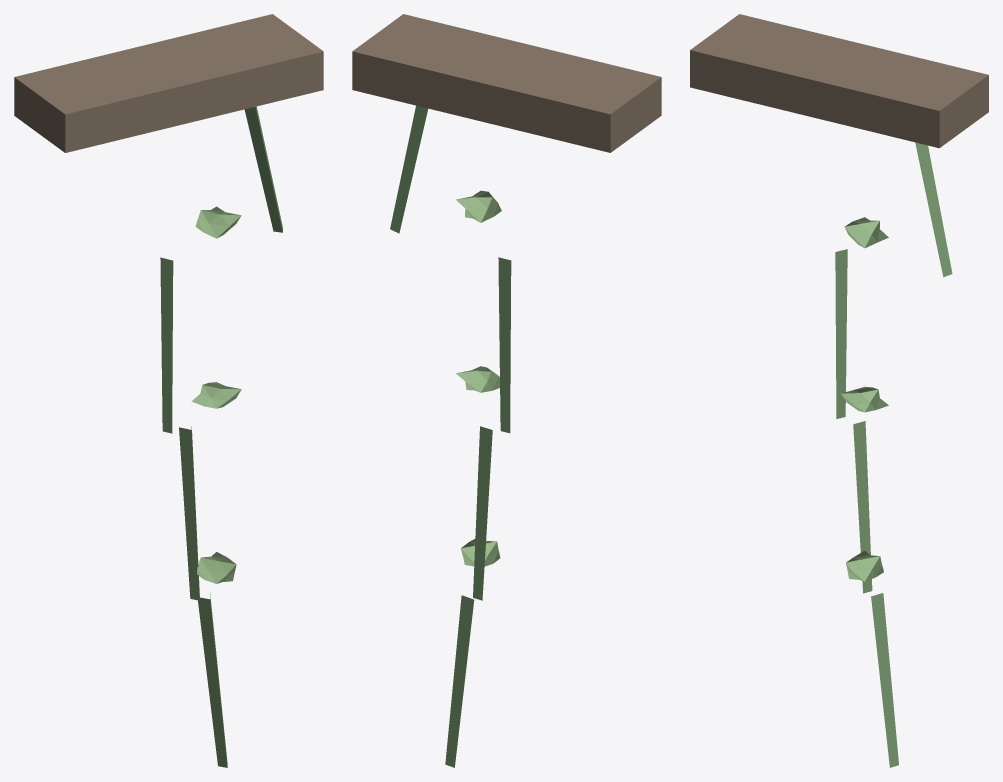
Rendered from vine_v39.glb.
3 renders of one model, left to right at view 1: azimuth 30°, elevation 25°; view 2: azimuth 150°, elevation 25°; view 3: azimuth 330°, elevation 25°, orthographic. The views are drawn at different scales.
Visible parts, largest first — view 1: lod0; view 2: lod0; view 3: lod0.
Boxes of the visible parts, x1,y1,x2,y2 form: lod0: (14, 14, 323, 767); lod0: (352, 14, 661, 767); lod0: (690, 14, 988, 767).
Size of what is drawn, in the model's own units: 0.7 by 1.85 by 0.2467.
